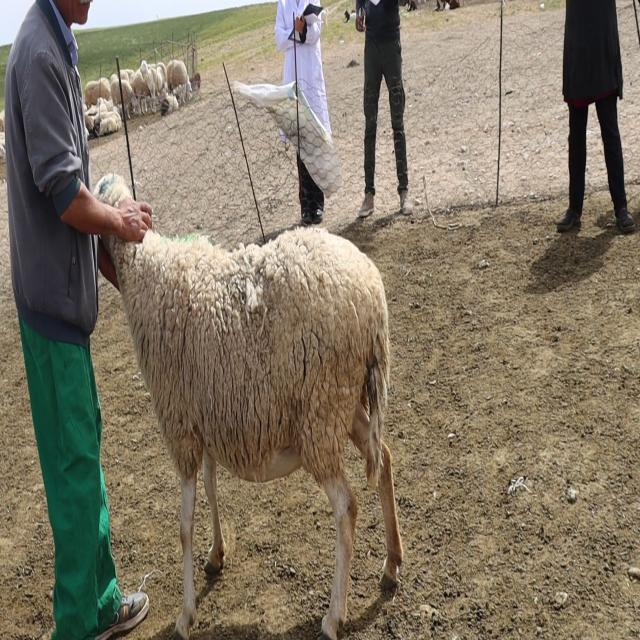Score_4: (105, 228, 403, 639)
